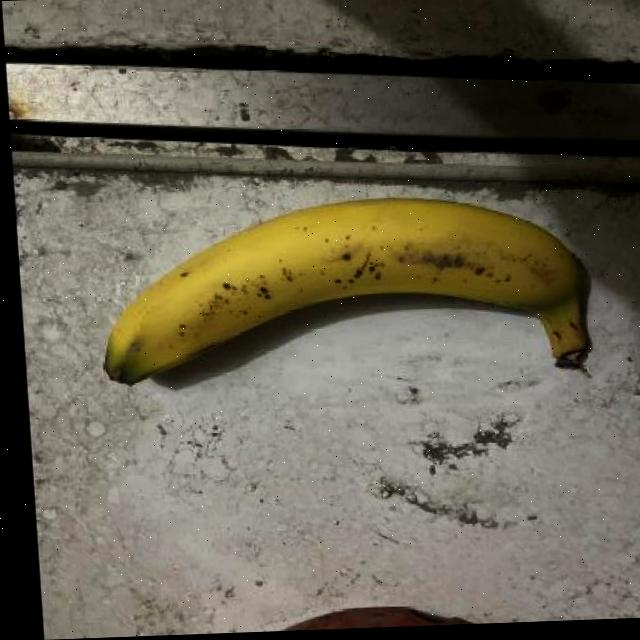banana: (84, 190, 599, 398)
